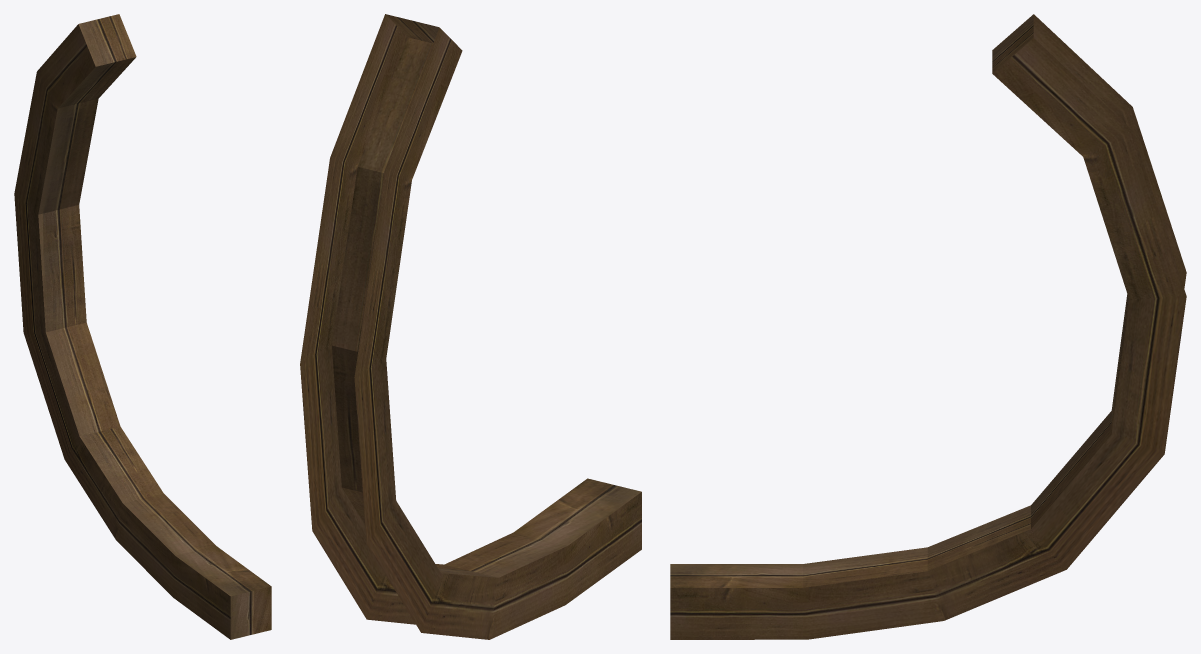
The model's file is Wall1_border.gltf.
The picture shows the model from 3 angles, left to right: view 1: azimuth 30°, elevation 25°; view 2: azimuth 150°, elevation 25°; view 3: azimuth 270°, elevation 25°; orthographic projection. The views are drawn at different scales.
Parts seen in each view (by area): view 1: Wall1_border_glb; view 2: Wall1_border_glb; view 3: Wall1_border_glb.
Part boxes in pixels (<box>): Wall1_border_glb: <box>14,14,271,639</box>; Wall1_border_glb: <box>300,14,641,639</box>; Wall1_border_glb: <box>670,14,1186,639</box>.
Bounding box in the file's own units: 0.25 × 2.94 × 2.29.
Materials: 1 (1 with a texture image).
